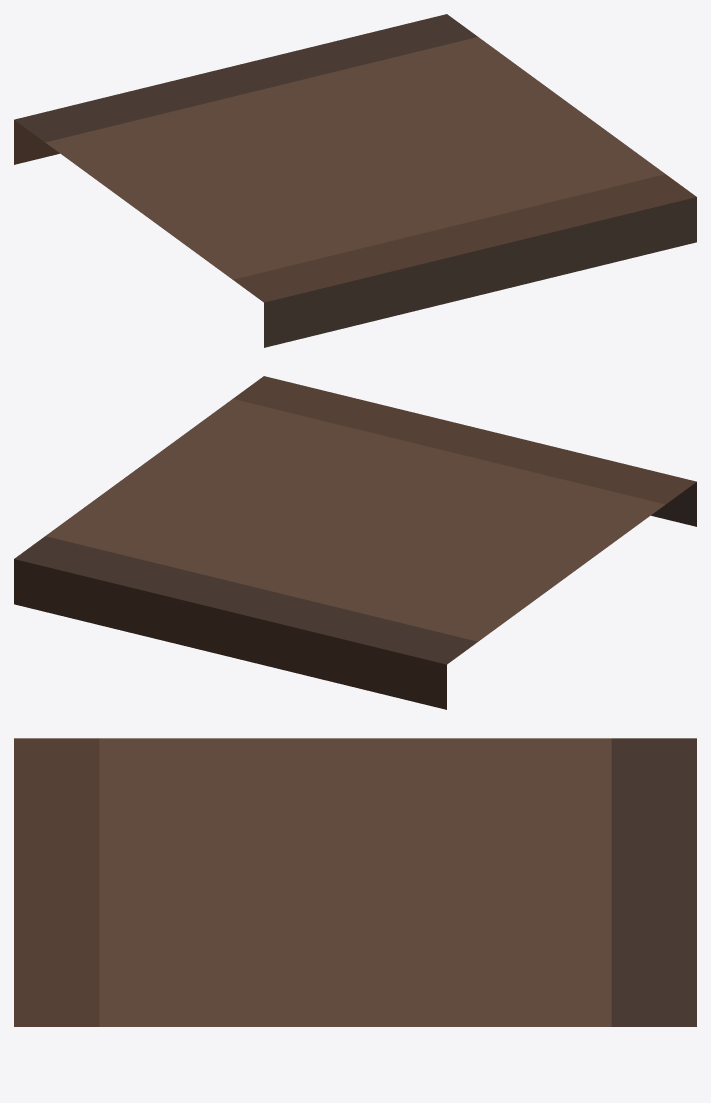
File: Floor_Planks_LOD2.fbx
3 views of the same model, one above another, from view 1: azimuth 30°, elevation 25°; view 2: azimuth 150°, elevation 25°; view 3: azimuth 270°, elevation 25° (orthographic). The views are drawn at different scales.
Visible parts, largest first — view 1: Floor_Planks_LOD2; view 2: Floor_Planks_LOD2; view 3: Floor_Planks_LOD2.
Part boxes in pixels (<box>): Floor_Planks_LOD2: <box>14,14,696,347</box>; Floor_Planks_LOD2: <box>14,376,696,709</box>; Floor_Planks_LOD2: <box>14,738,696,1026</box>.
Bounding box in the file's own units: 250 × 25 × 250.
